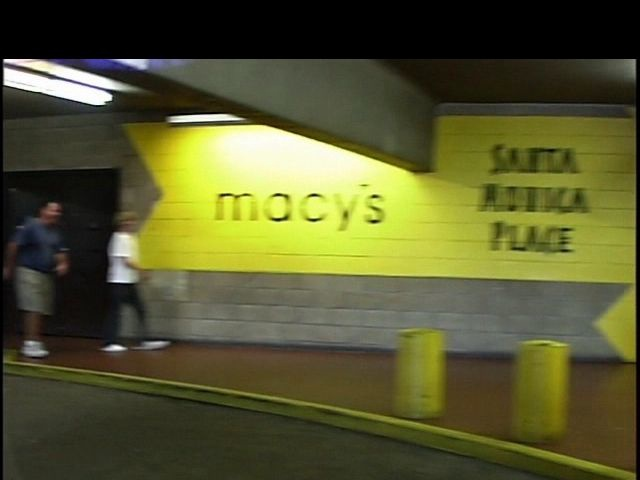person: (86, 201, 166, 368), (12, 189, 70, 360)
